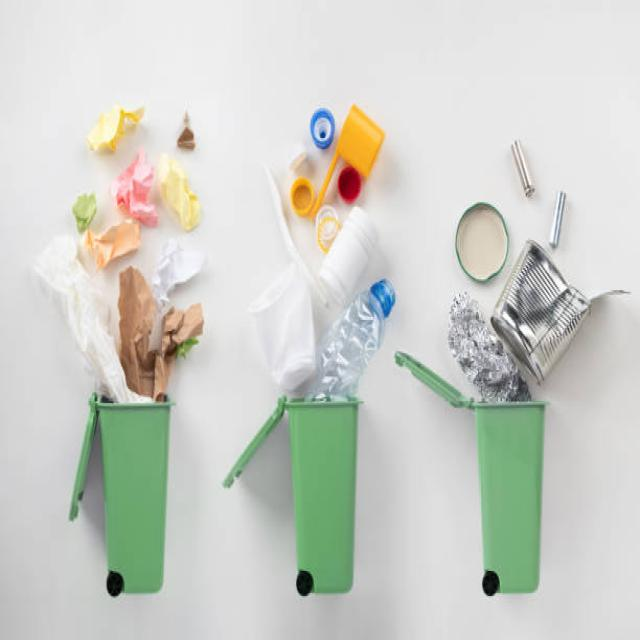metal: (446, 128, 615, 390)
paper: (57, 111, 186, 408)
plastic: (246, 93, 402, 384)
